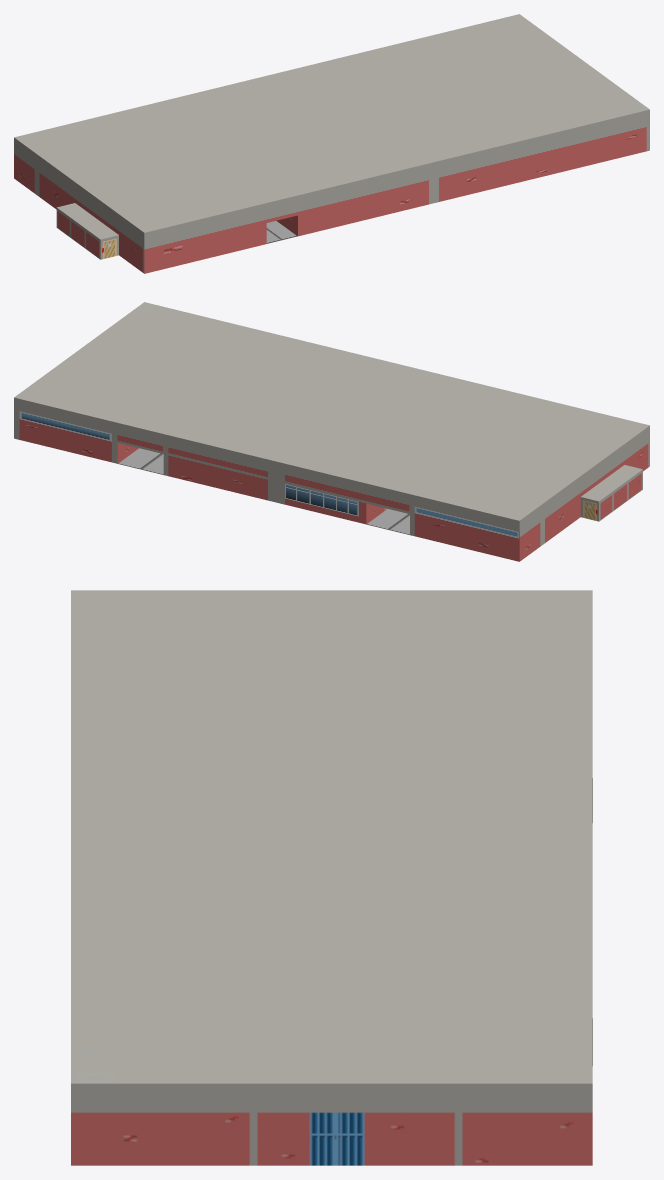
The model's file is EDIF_19.fbx.
3 views of the same model, one above another, from view 1: azimuth 30°, elevation 25°; view 2: azimuth 150°, elevation 25°; view 3: azimuth 270°, elevation 25° (orthographic). The views are drawn at different scales.
Parts seen in each view (by area): view 1: pabellon_10, polySurface3; view 2: pabellon_10, polySurface3; view 3: pabellon_10.
Boxes of the visible parts, <box> form: pabellon_10: <box>14,14,649,273</box>; polySurface3: <box>266,221,297,243</box>; pabellon_10: <box>14,302,649,561</box>; polySurface3: <box>118,448,409,534</box>; pabellon_10: <box>71,590,592,1165</box>.
Bounding box in the file's own units: 11098 × 830 × 4786.
